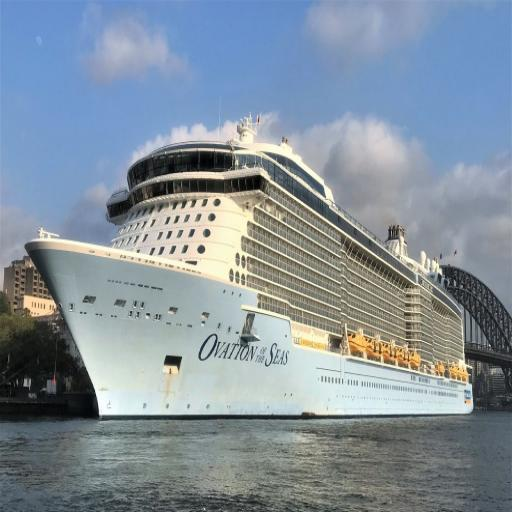cruises: (21, 112, 478, 430)
